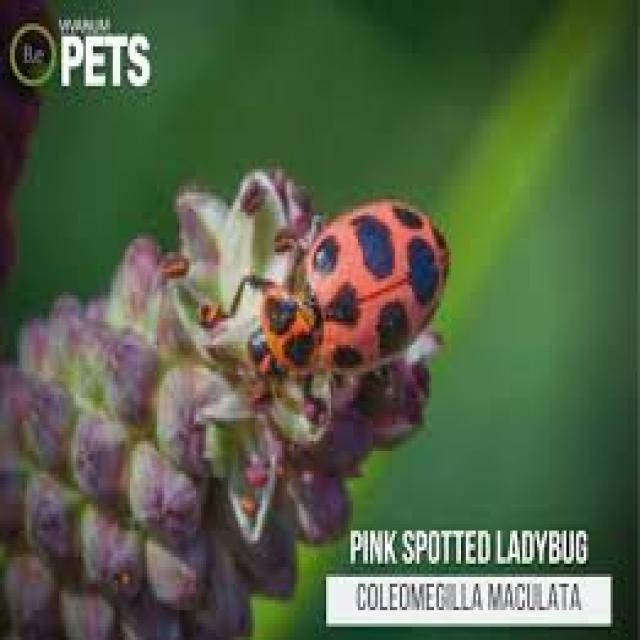bug: (201, 192, 459, 421)
